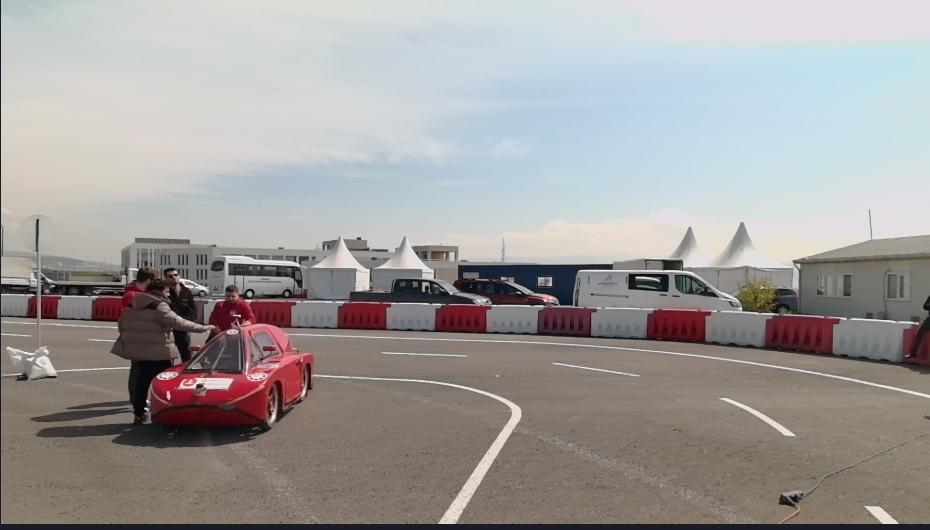nesne: (285, 327, 929, 528), (286, 332, 928, 526), (284, 332, 901, 524), (247, 292, 929, 371), (288, 331, 930, 400), (318, 373, 522, 524), (149, 324, 316, 429), (111, 280, 214, 425), (2, 318, 131, 377), (575, 271, 737, 308), (208, 255, 304, 301), (349, 277, 489, 305), (834, 317, 902, 363), (720, 395, 796, 436), (452, 278, 557, 306), (204, 284, 255, 341), (735, 269, 794, 314), (769, 315, 833, 356), (119, 268, 158, 334), (704, 311, 768, 346), (54, 269, 134, 296), (902, 295, 929, 369), (649, 309, 707, 343), (548, 358, 644, 378), (592, 308, 650, 341), (46, 296, 119, 322), (538, 305, 591, 338), (10, 346, 58, 380), (165, 265, 196, 317), (491, 305, 540, 336), (438, 305, 491, 332), (20, 214, 56, 252), (247, 301, 293, 330), (340, 304, 389, 330), (390, 305, 438, 331), (293, 302, 339, 328), (0, 257, 31, 291), (35, 221, 43, 347), (59, 297, 95, 321), (382, 347, 468, 357), (190, 294, 217, 323), (2, 294, 31, 318), (866, 505, 899, 524), (96, 297, 119, 320), (176, 330, 192, 361), (182, 279, 208, 298), (43, 297, 59, 318), (43, 275, 55, 296)
